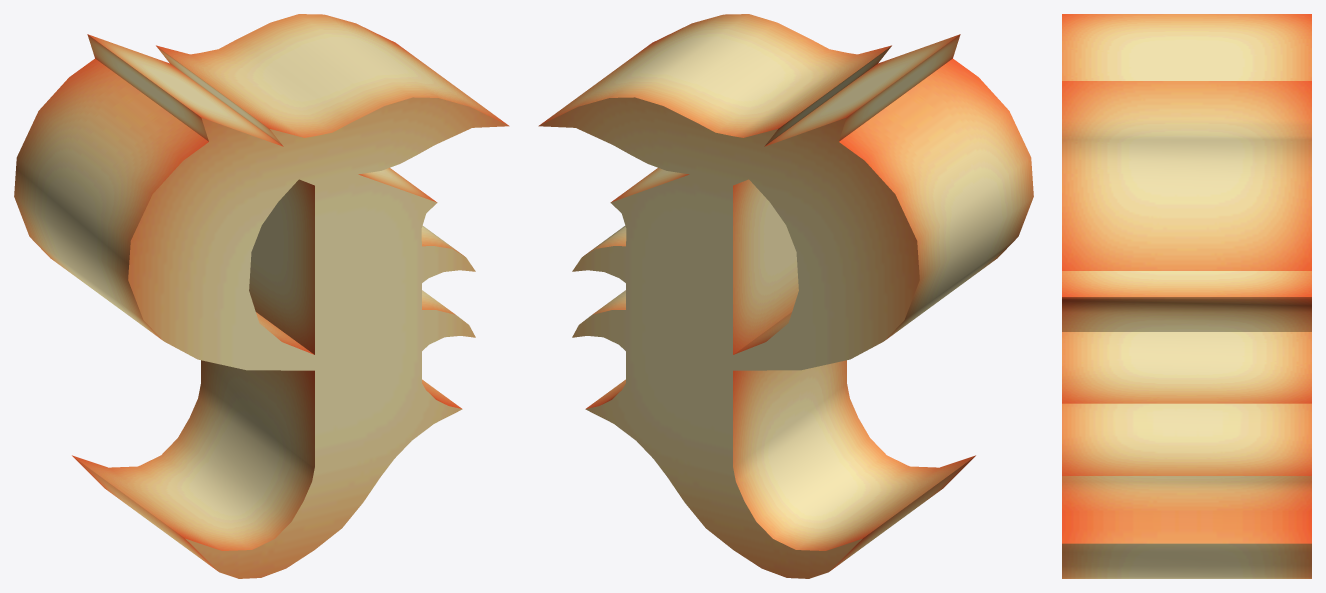
File: alien2.ico.obj
3 views of the same model, side by side, from view 1: azimuth 30°, elevation 25°; view 2: azimuth 150°, elevation 25°; view 3: azimuth 270°, elevation 25° (orthographic). The views are drawn at different scales.
Size of the model in its own units: 3.6 by 4.28 by 1.86.
